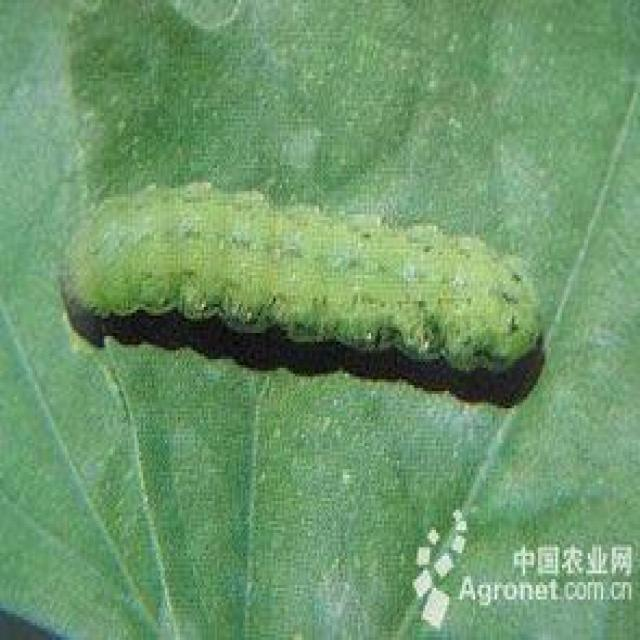BeetArmyWorm-Larva-: (51, 163, 551, 397)
